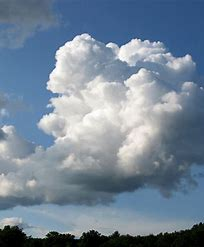Cumulus: (51, 26, 203, 197), (1, 123, 117, 208)
